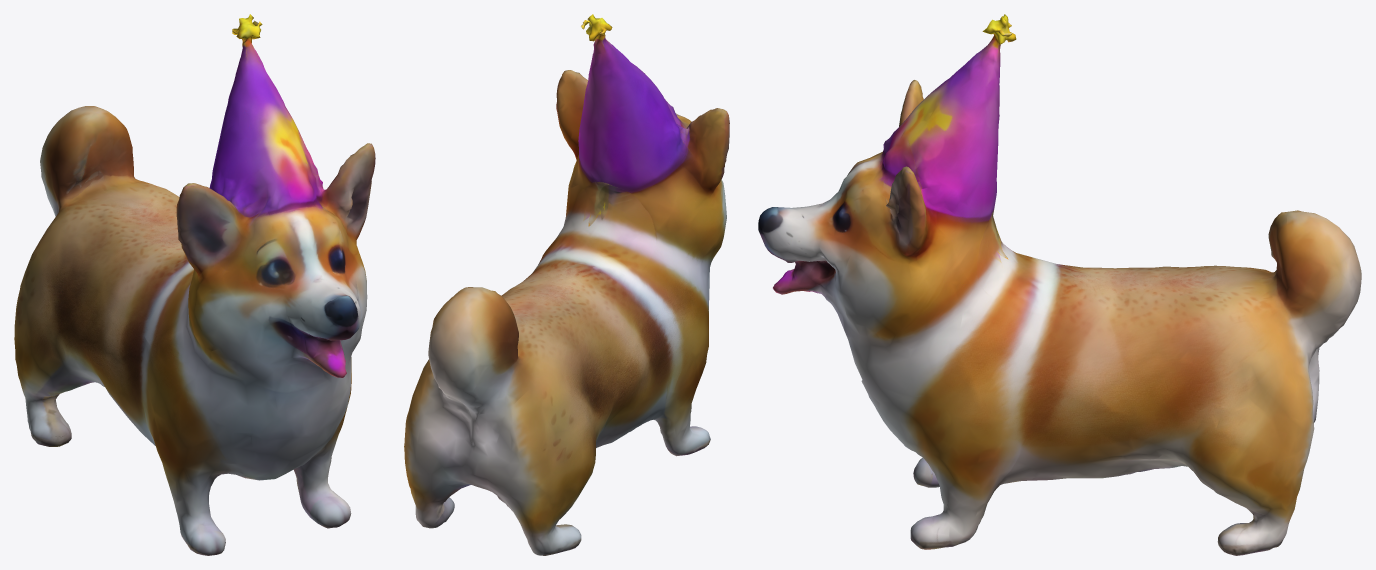
Rendered from corgi.glb.
3 views of the same model, side by side, from view 1: azimuth 30°, elevation 25°; view 2: azimuth 150°, elevation 25°; view 3: azimuth 270°, elevation 25° (orthographic). The views are drawn at different scales.
Bounding box in the file's own units: 0.4639 × 1.12 × 1.2.
1 material, 1 textured.
